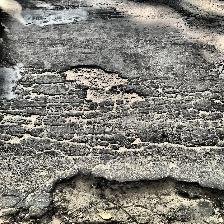pothole: (9, 168, 224, 224), (64, 64, 146, 102)
